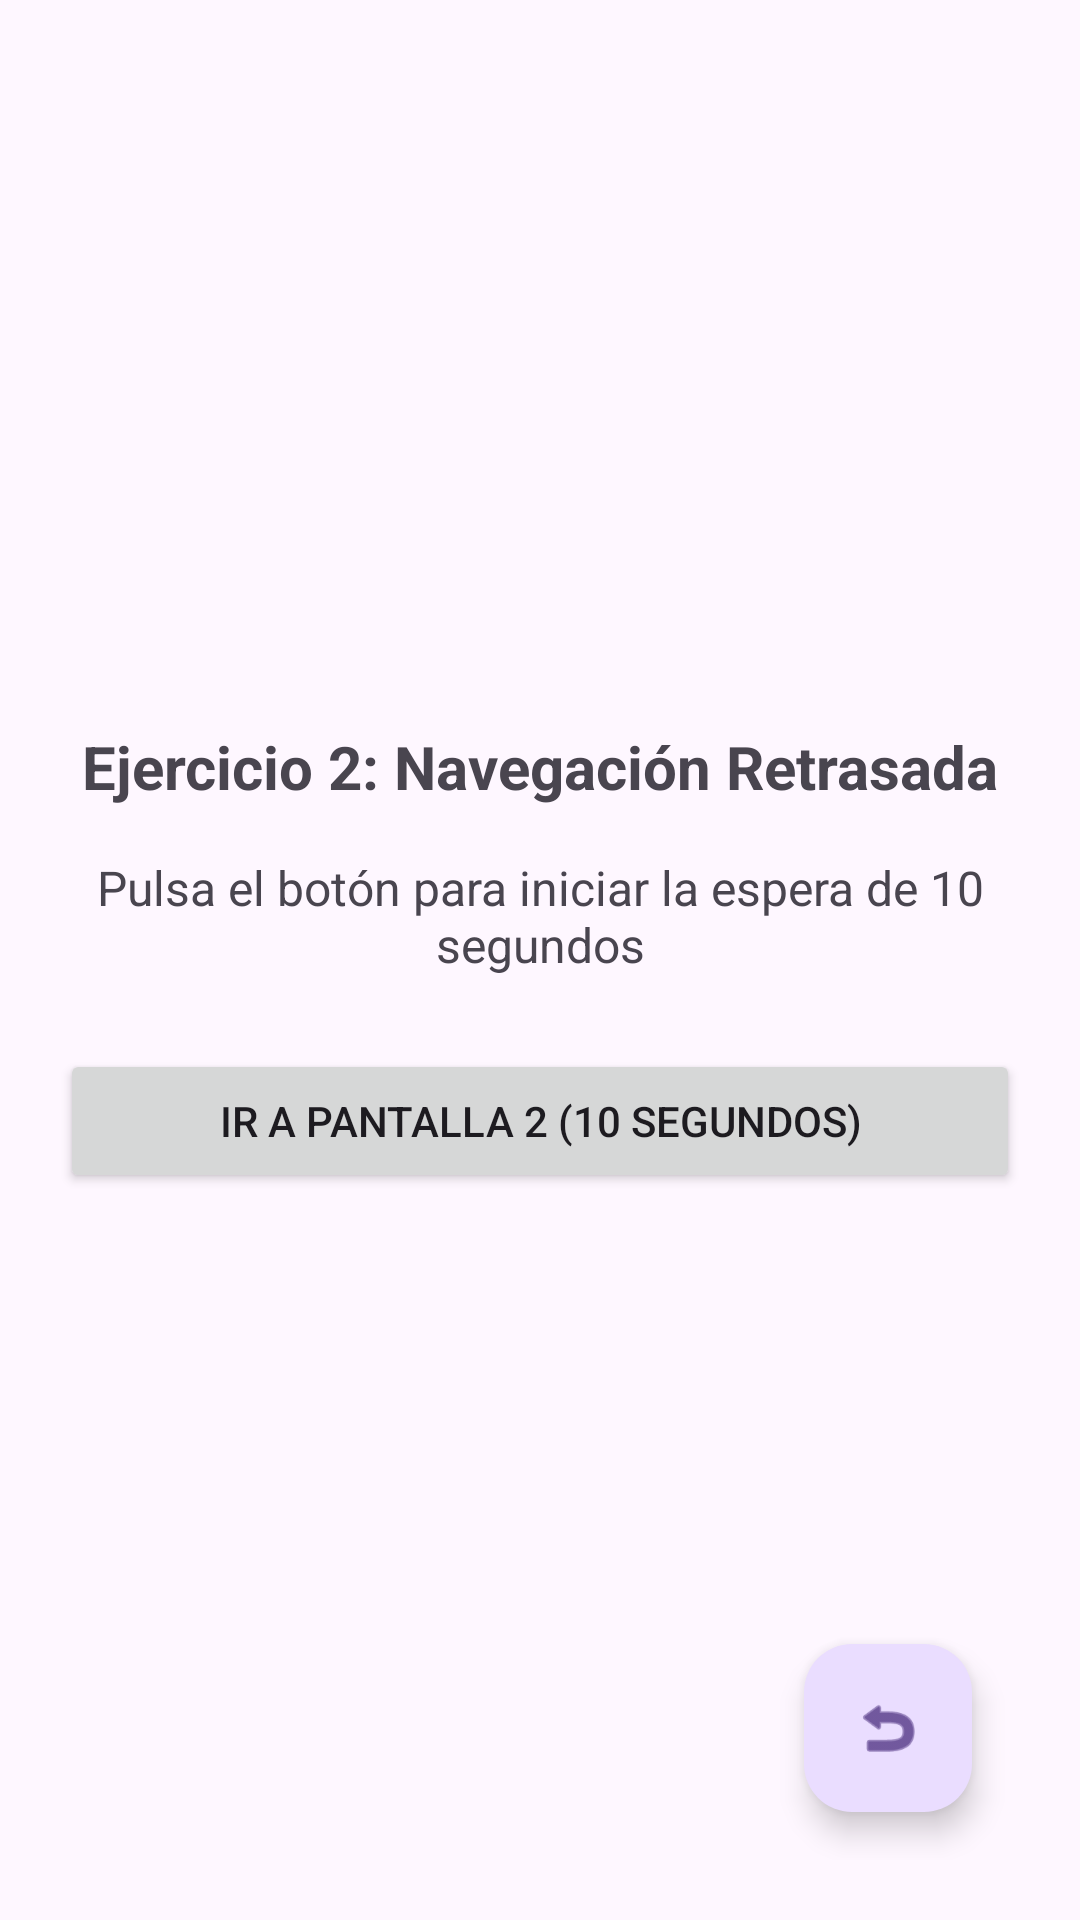

Point at icon controls on the screen. Image size 1080 x 1920, points as (x,y).
Volver al menú: (888,1728)
